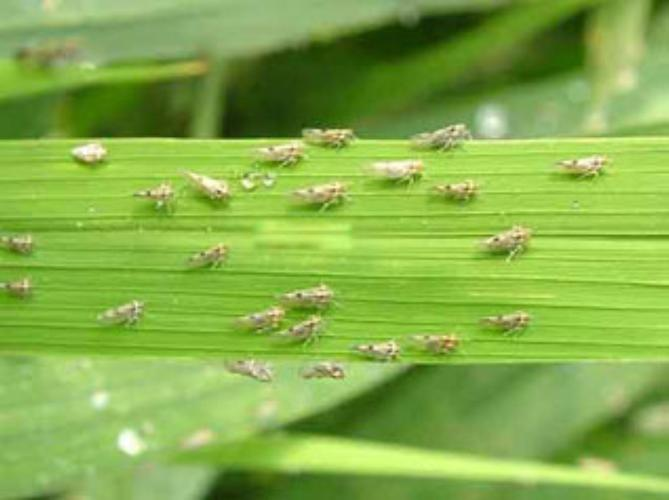Delphacidae: (273, 312, 333, 350), (270, 280, 342, 310), (292, 178, 354, 212), (482, 222, 534, 262), (371, 158, 430, 191), (408, 121, 471, 151), (232, 304, 289, 336), (93, 297, 148, 329), (182, 169, 230, 205), (476, 309, 532, 339), (554, 153, 614, 180), (132, 181, 180, 212), (299, 126, 358, 150), (409, 332, 462, 357), (255, 141, 307, 166), (223, 357, 274, 382), (433, 177, 482, 202), (186, 241, 231, 268), (349, 340, 399, 362), (68, 142, 109, 163), (1, 232, 38, 255), (1, 276, 35, 298)
